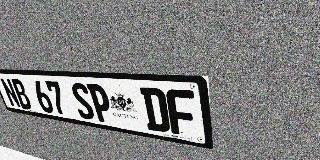6: (31, 80, 55, 114)
7: (44, 81, 69, 116)
B: (10, 78, 33, 110)
D: (140, 87, 171, 133)
F: (165, 89, 198, 138)
N: (0, 78, 22, 108)
P: (86, 84, 114, 124)
S: (69, 82, 96, 121)
